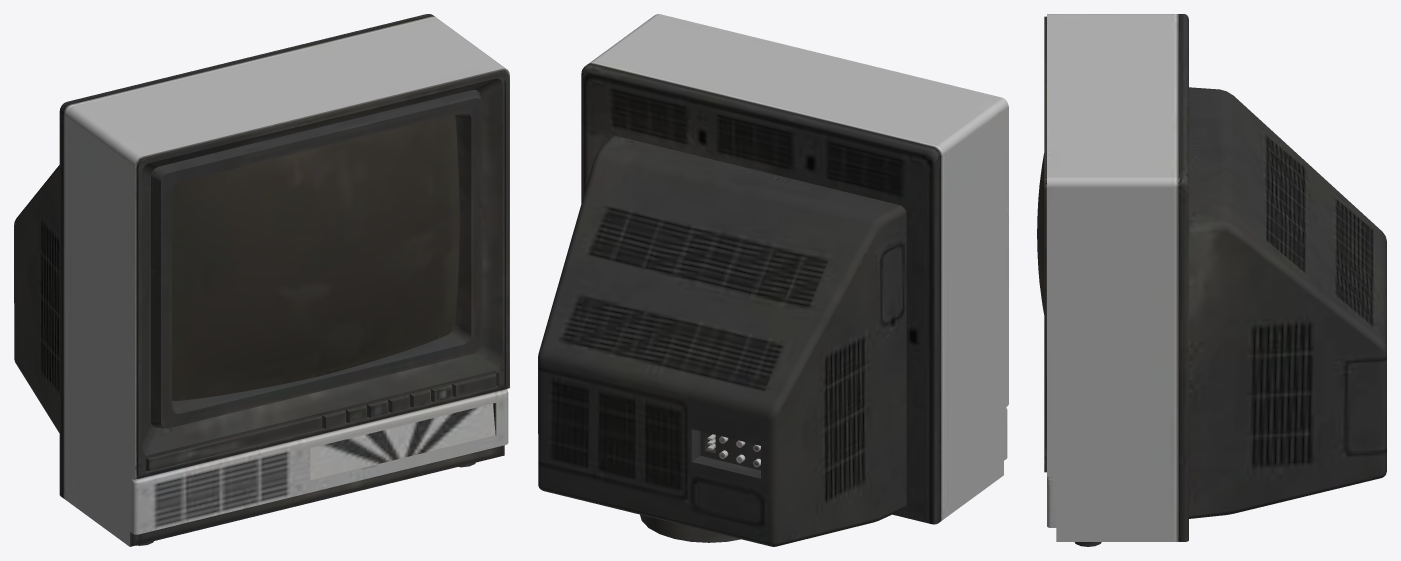
Rendered from crt_tv.glb.
3 views of the same model, side by side, from view 1: azimuth 30°, elevation 25°; view 2: azimuth 150°, elevation 25°; view 3: azimuth 270°, elevation 25° (orthographic). The views are drawn at different scales.
Parts seen in each view (by area): view 1: television_02; view 2: television_02; view 3: television_02.
Boxes of the visible parts, <box> form: television_02: <box>14,14,509,546</box>; television_02: <box>538,14,1008,546</box>; television_02: <box>1037,14,1386,546</box>.
Size of the model in its own units: 0.3997 by 0.4114 by 0.3502.
1 material, 1 textured.
